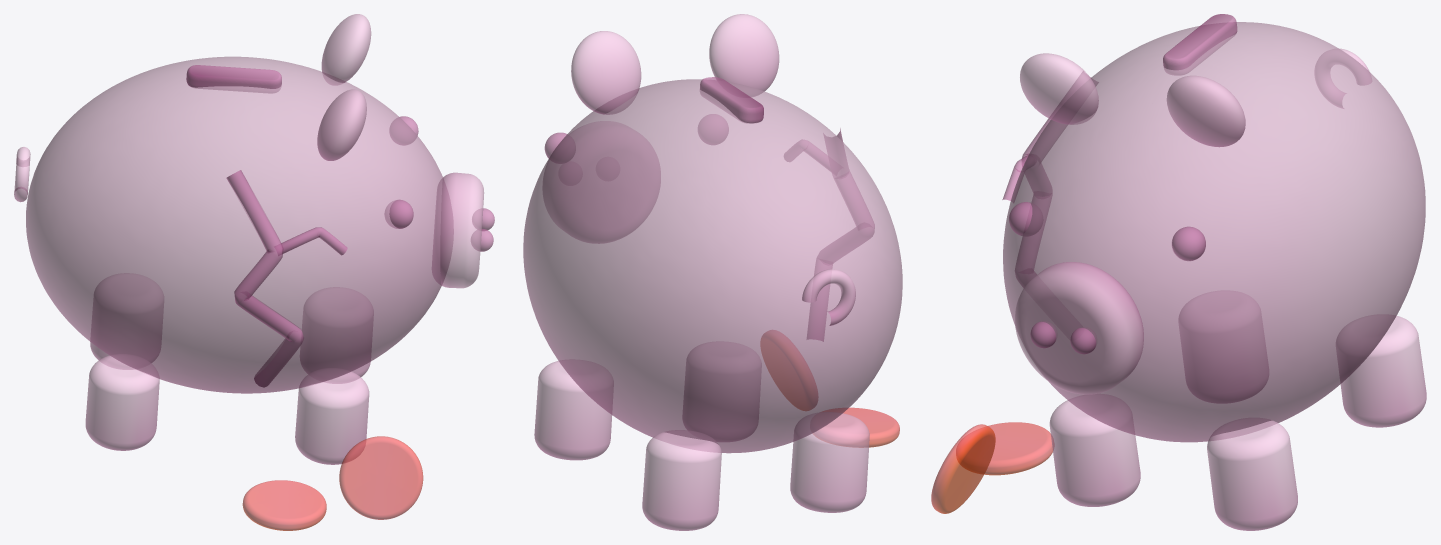
File: cracked-piggy-bank.glb
3 views of the same model, side by side, from view 1: azimuth 30°, elevation 25°; view 2: azimuth 150°, elevation 25°; view 3: azimuth 270°, elevation 25° (orthographic). The views are drawn at different scales.
Parts seen in each view (by area): view 1: body, leg_3, leg_1, leg_4, leg_2, coin_2, snout, crack, coin_1, ear_2, ear_1, coin_slot (+4 smaller); view 2: body, snout, leg_4, leg_3, leg_2, leg_1, ear_1, ear_2, crack, coin_2, coin_1, coin_slot (+4 smaller); view 3: body, snout, leg_2, leg_1, leg_4, leg_3, ear_1, ear_2, coin_1, coin_2, crack, coin_slot (+6 smaller).
Part boxes in pixels (bbox=[...]): body: bbox=[26, 56, 453, 393]; leg_3: bbox=[85, 354, 159, 450]; leg_1: bbox=[295, 368, 369, 464]; leg_4: bbox=[90, 273, 163, 369]; leg_2: bbox=[300, 287, 373, 383]; coin_2: bbox=[339, 436, 423, 519]; snout: bbox=[432, 172, 484, 288]; crack: bbox=[226, 170, 303, 387]; coin_1: bbox=[242, 480, 326, 530]; ear_2: bbox=[317, 89, 366, 160]; ear_1: bbox=[321, 14, 371, 84]; coin_slot: bbox=[186, 65, 281, 92]; body: bbox=[523, 79, 902, 453]; snout: bbox=[543, 121, 660, 243]; leg_4: bbox=[642, 430, 721, 530]; leg_3: bbox=[790, 412, 869, 512]; leg_2: bbox=[534, 360, 613, 460]; leg_1: bbox=[683, 342, 761, 441]; ear_1: bbox=[571, 31, 641, 114]; ear_2: bbox=[709, 14, 779, 96]; crack: bbox=[807, 128, 874, 341]; coin_2: bbox=[761, 330, 817, 410]; coin_1: bbox=[813, 407, 899, 447]; coin_slot: bbox=[700, 77, 763, 123]; body: bbox=[1003, 22, 1425, 442]; snout: bbox=[1015, 262, 1143, 394]; leg_2: bbox=[1207, 418, 1297, 530]; leg_1: bbox=[1049, 394, 1140, 506]; leg_4: bbox=[1336, 315, 1426, 427]; leg_3: bbox=[1179, 291, 1268, 402]; ear_1: bbox=[1166, 75, 1245, 147]; ear_2: bbox=[1020, 53, 1098, 124]; coin_1: bbox=[956, 422, 1053, 475]; coin_2: bbox=[931, 424, 995, 513]; crack: bbox=[1015, 71, 1098, 287]; coin_slot: bbox=[1163, 14, 1237, 74].
Size of the model in its own units: 0.8285 by 0.8529 by 0.7996.
